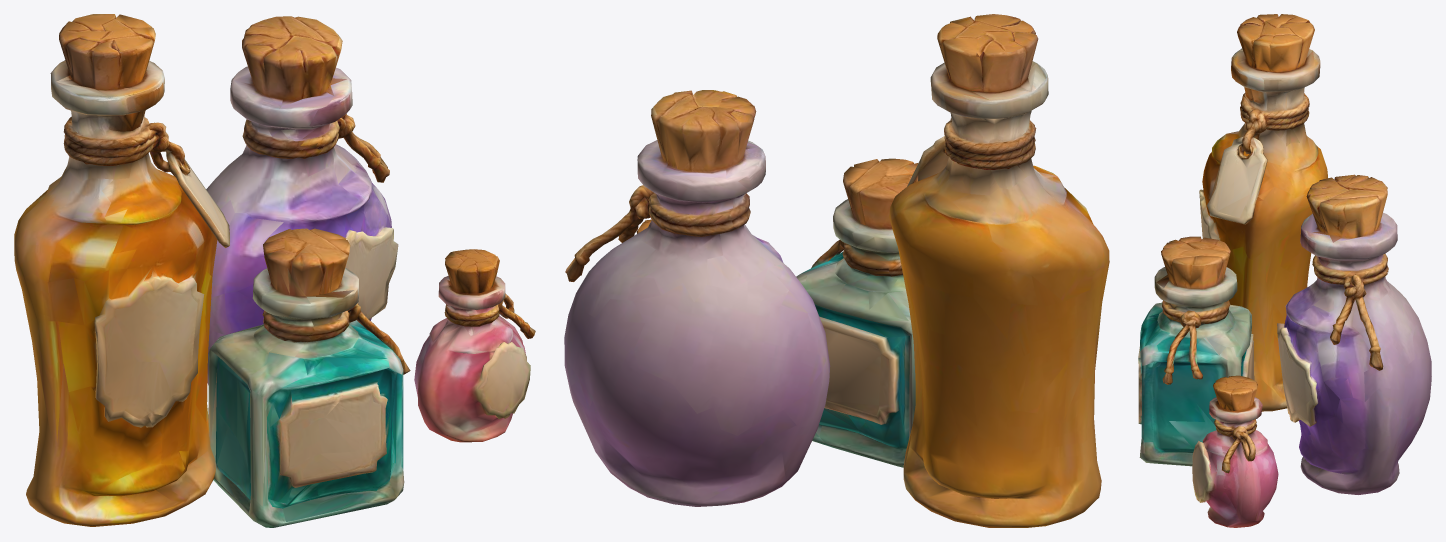
Rendered from potion_bottles.glb.
3 renders of one model, left to right at view 1: azimuth 30°, elevation 25°; view 2: azimuth 150°, elevation 25°; view 3: azimuth 270°, elevation 25°, orthographic. The views are drawn at different scales.
Visible parts, largest first — view 1: tripo_node_2a74daa7-9430-4466-b68c-c42170a0557d; view 2: tripo_node_2a74daa7-9430-4466-b68c-c42170a0557d; view 3: tripo_node_2a74daa7-9430-4466-b68c-c42170a0557d.
Boxes of the visible parts, x1,y1,x2,y2 form: tripo_node_2a74daa7-9430-4466-b68c-c42170a0557d: (14,14,535,527); tripo_node_2a74daa7-9430-4466-b68c-c42170a0557d: (564,14,1109,527); tripo_node_2a74daa7-9430-4466-b68c-c42170a0557d: (1138,14,1431,527).
Bounding box in the file's own units: 0.2943 × 0.26 × 0.1921.
1 material, 1 textured.
